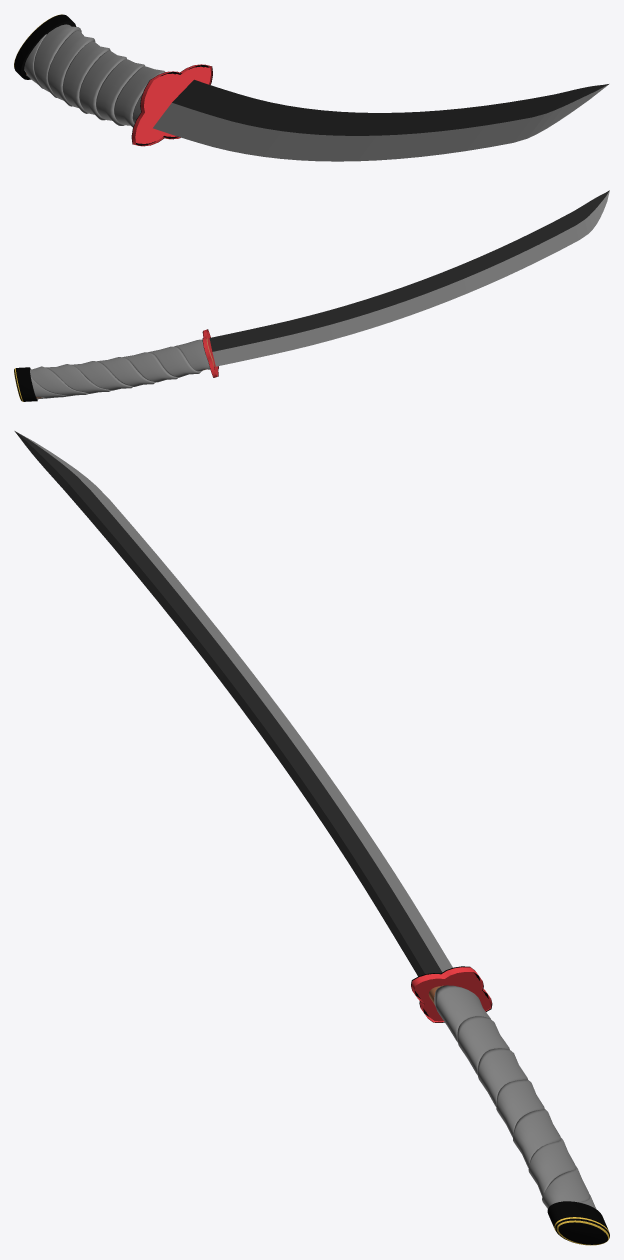
The model's file is arma-katana.glb.
The picture shows the model from 3 angles, top to bottom: view 1: azimuth 90°, elevation 25°; view 2: azimuth 150°, elevation 25°; view 3: azimuth 270°, elevation 25°; orthographic projection. The views are drawn at different scales.
Parts seen in each view (by area): view 1: blade_0, wrap_3, gaurd_1, panmelz_4; view 2: blade_0, wrap_3, panmelz_4, gaurd_1; view 3: blade_0, wrap_3, panmelz_4, gaurd_1.
Boxes of the visible parts, x1,y1,x2,y2 form: blade_0: [153, 79, 608, 161]; wrap_3: [24, 24, 165, 127]; gaurd_1: [131, 64, 212, 146]; panmelz_4: [14, 14, 76, 79]; blade_0: [209, 190, 609, 366]; wrap_3: [30, 339, 210, 399]; panmelz_4: [14, 367, 37, 401]; gaurd_1: [202, 329, 218, 377]; blade_0: [14, 431, 452, 976]; wrap_3: [434, 985, 596, 1208]; panmelz_4: [547, 1201, 609, 1245]; gaurd_1: [411, 966, 492, 1022].
Size of the model in its own units: 30.82 by 13.28 by 17.88.
